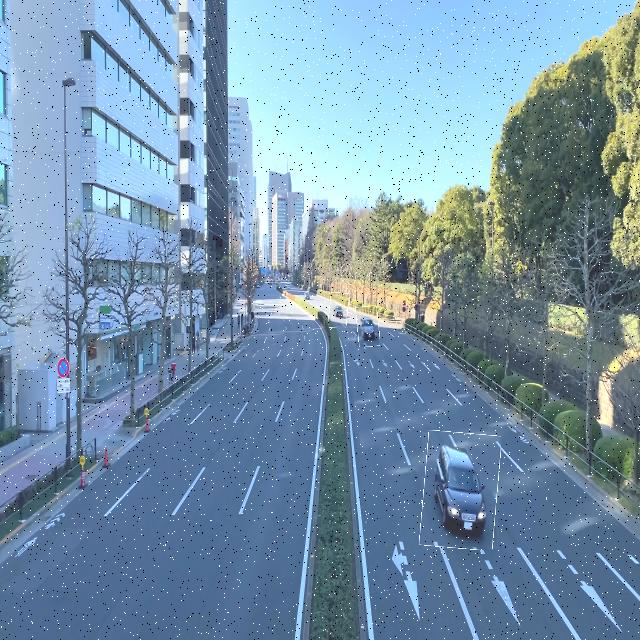Car: (422, 432, 499, 549), (356, 307, 379, 347), (329, 293, 349, 328)
